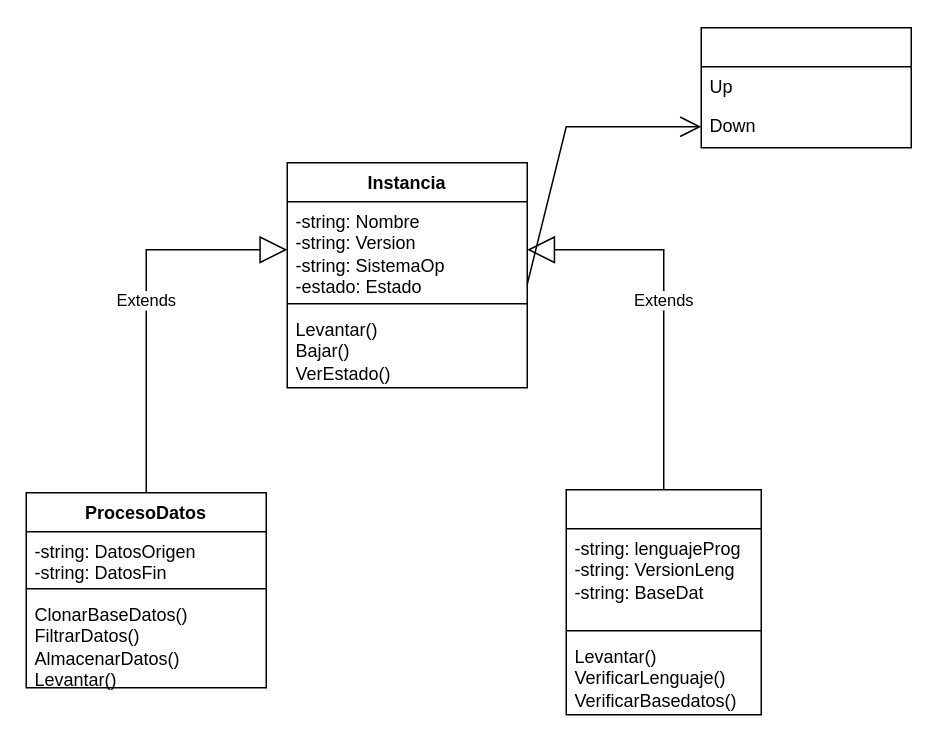
This 938x746 diagram has some shape labels left out. The shapes that lost their labels are listed below. From the top down, each one's box as (x1, y1, x2, y2) in pixels, then its label:
(700, 26, 911, 148): Estado <<enum>>
(565, 488, 761, 715): Aplicacion
